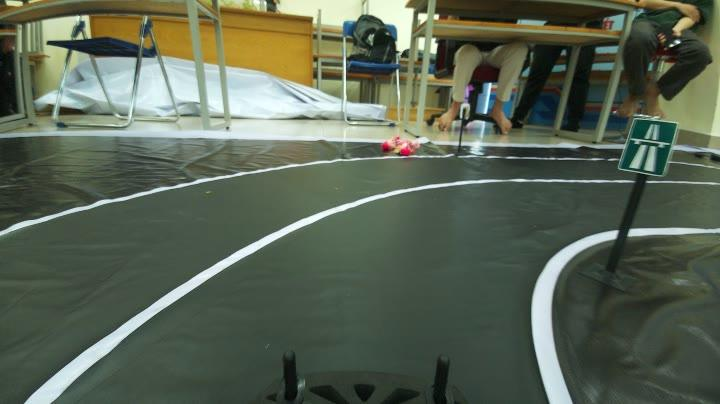highway_entry: (620, 106, 676, 183)
